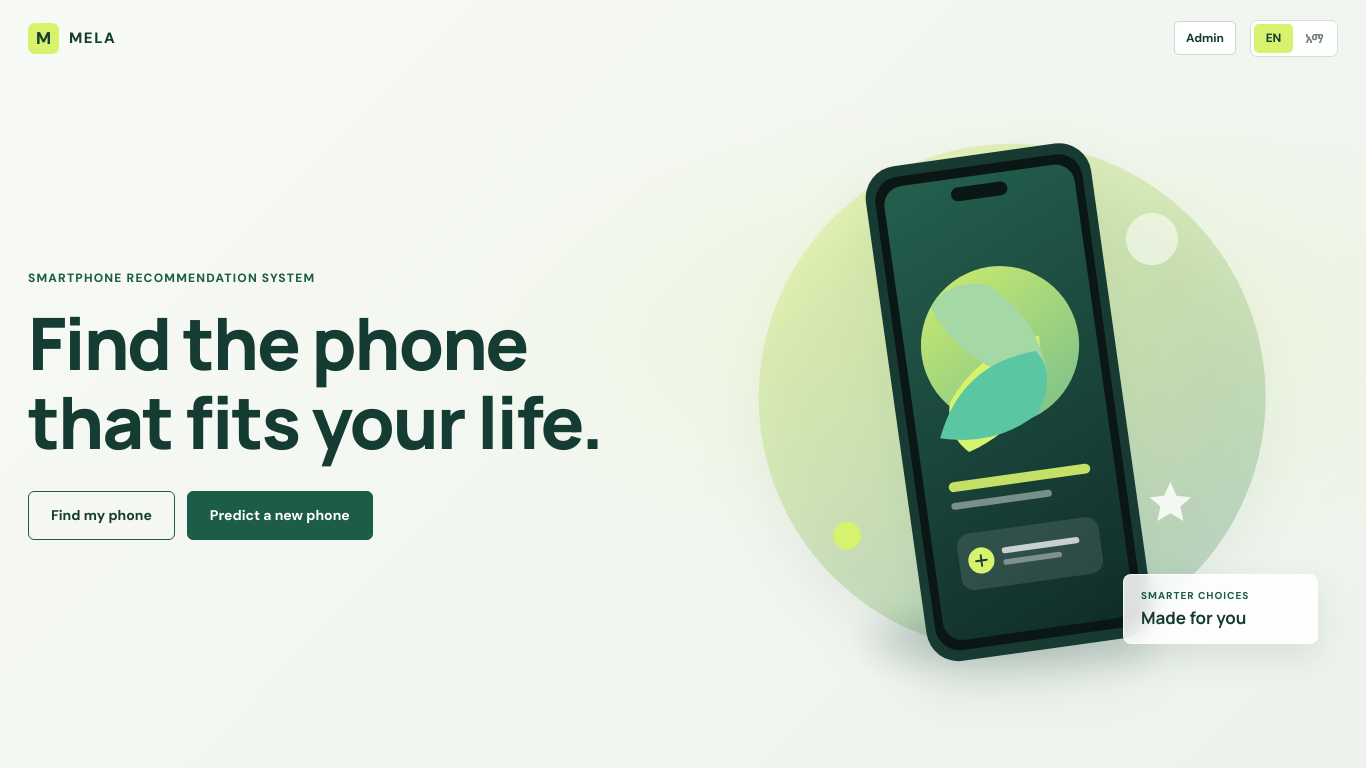
Test: first admin signs up, then signs in to manage the catalog
Click the button "Admin" at point(1205, 38), box [1174,21,1236,55]
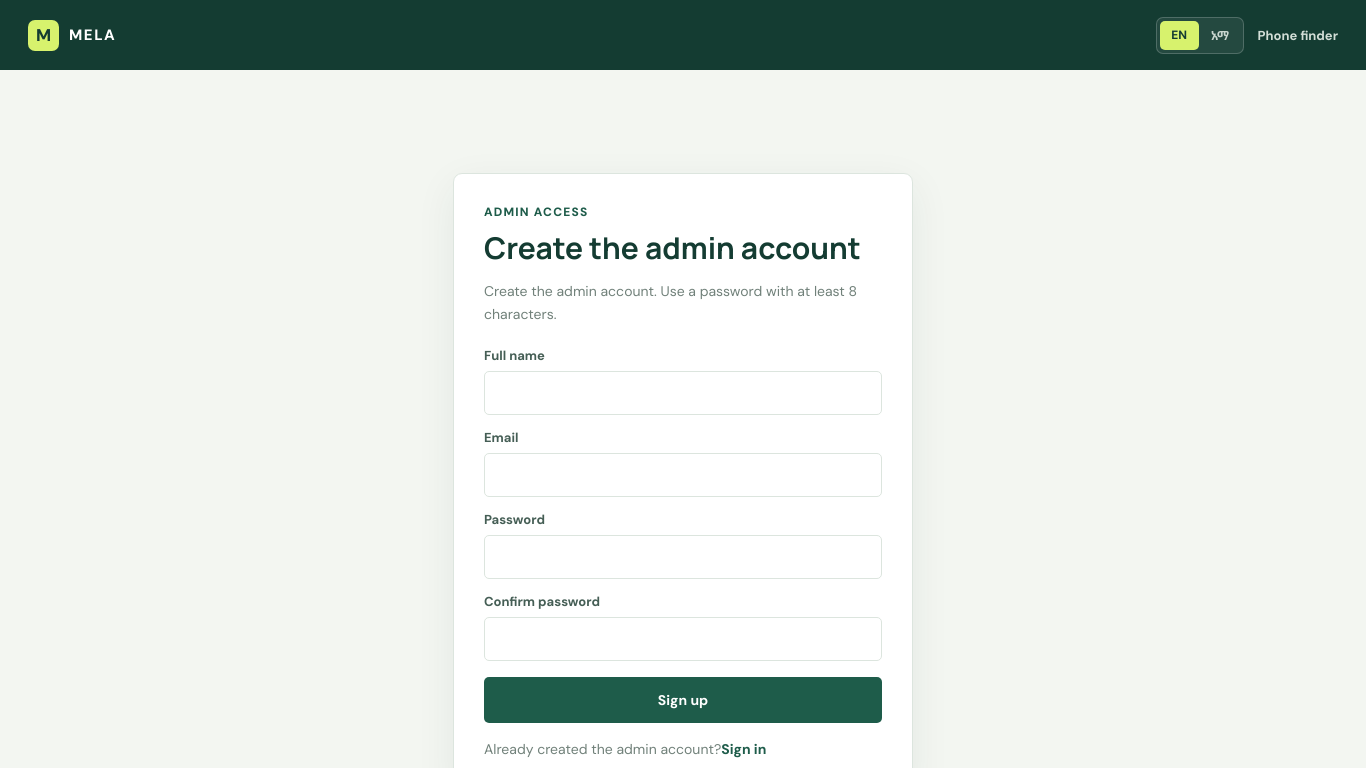
Now the heading "Create the admin account" is shown, box [484,230,882,266]
Type "Catalog Admin" into the field labelled "Full name" at point(683, 393), box [484,371,882,415]
Type "admin@example.com" into the field labelled "Email" at point(683, 475), box [484,453,882,497]
Type "strong-admin-password" into the password field labelled "Password" at point(683, 557), box [484,535,882,579]
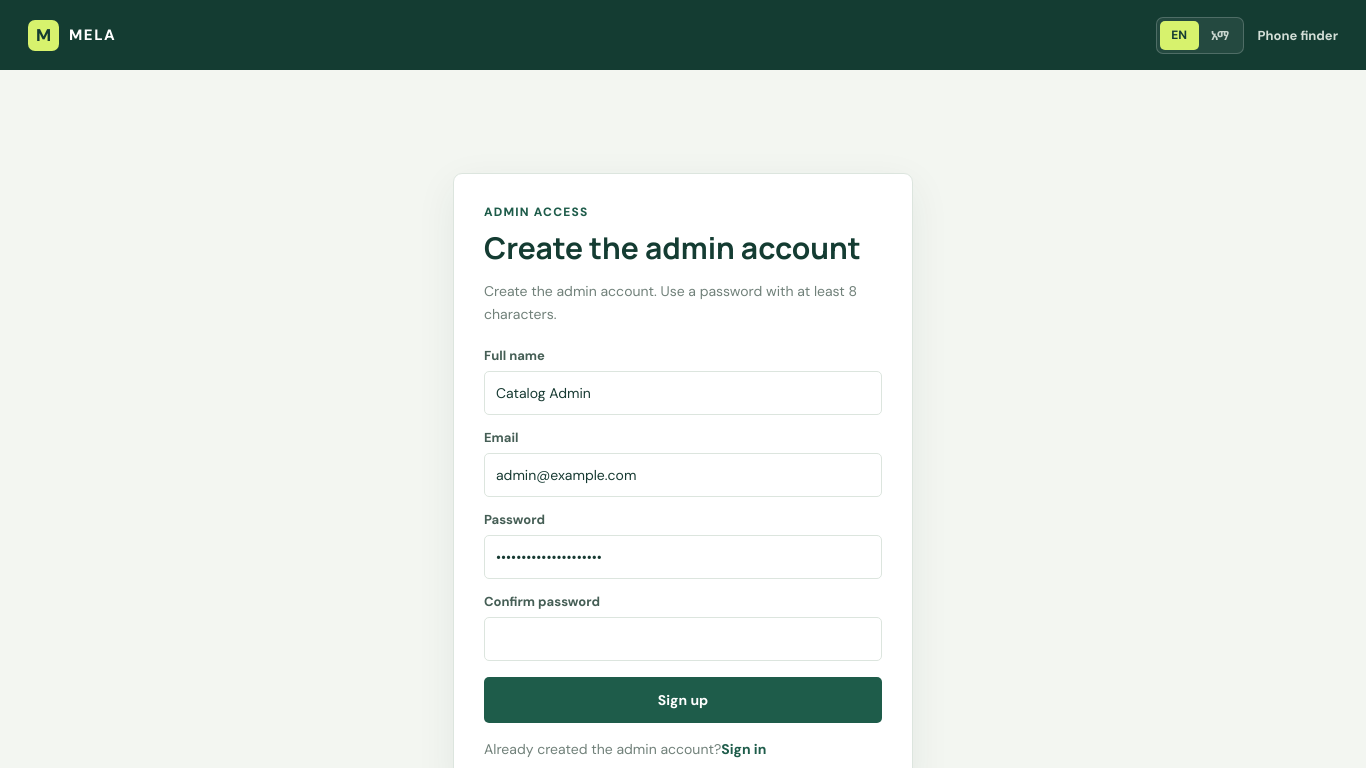
Type "strong-admin-password" into the password field labelled "Confirm password" at point(683, 639), box [484,617,882,661]
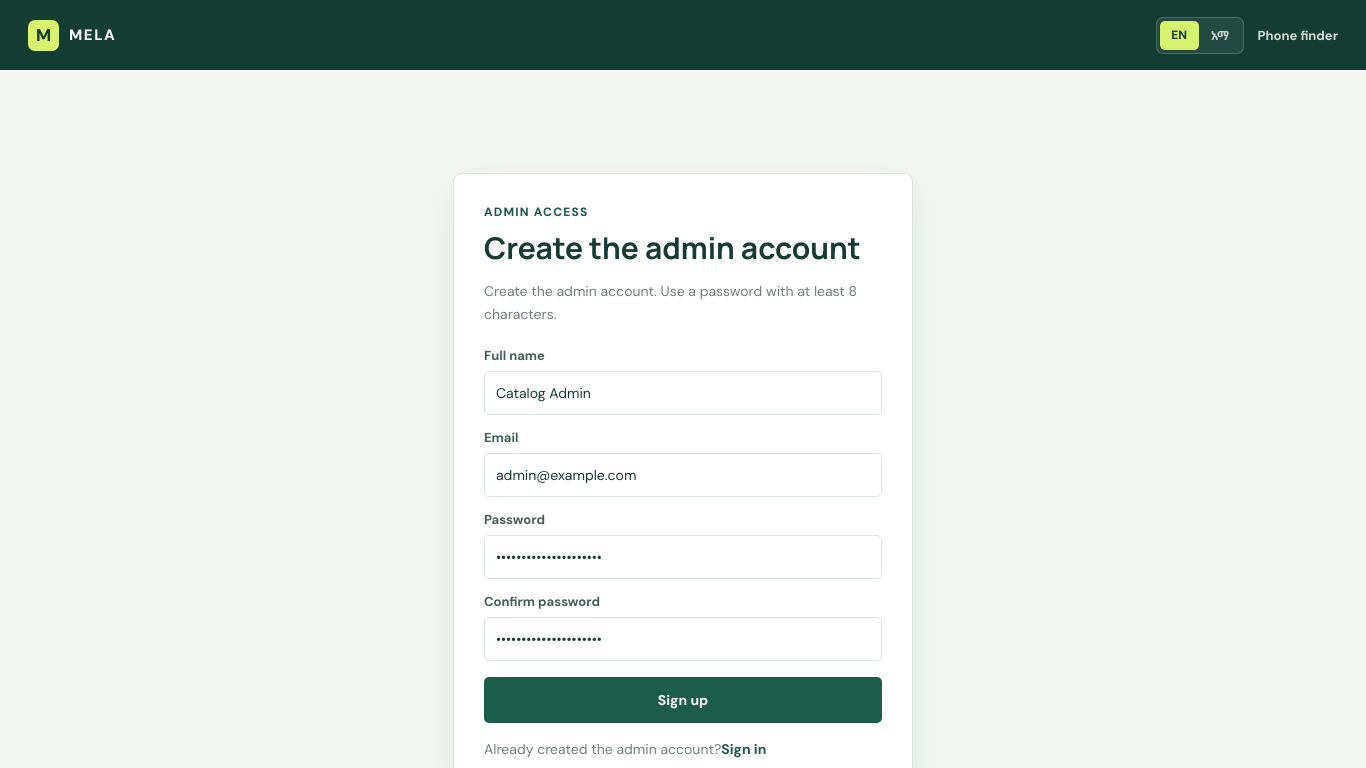
Click the button "Sign up" at point(683, 700), box [484,677,882,723]
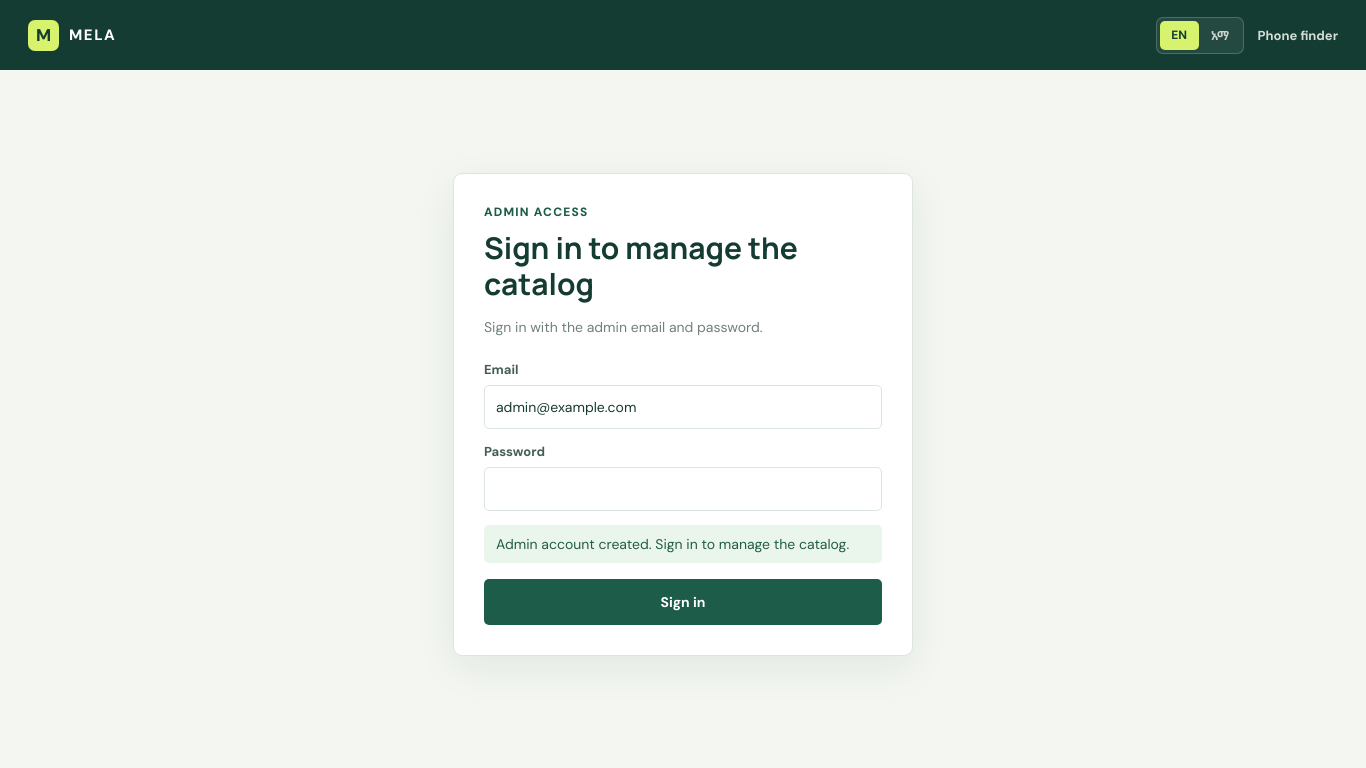
Now the heading "Sign in to manage the catalog" is shown, box [484,227,798,304]
Type "strong-admin-password" into the password field labelled "Password" at point(683, 488), box [484,466,882,510]
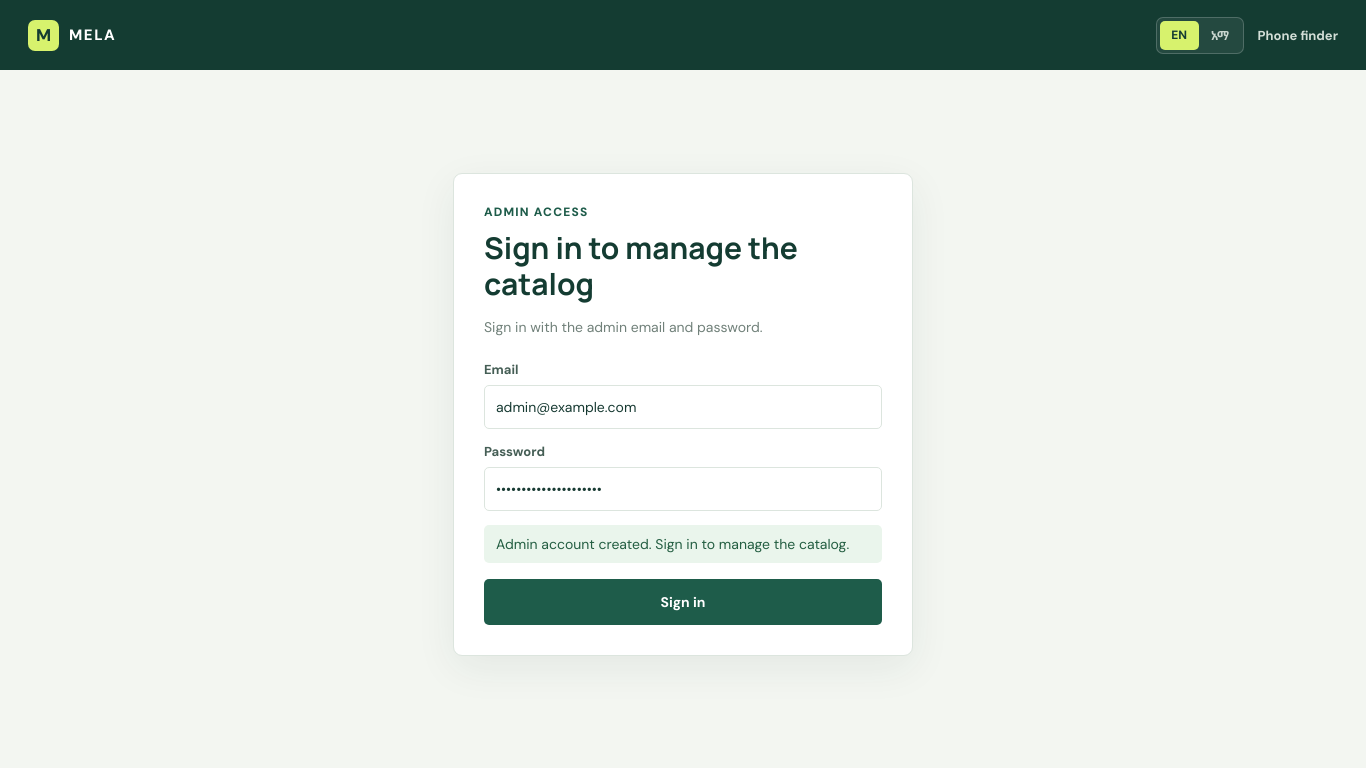
Click the button "Sign in" at point(683, 602), box [484,578,882,624]
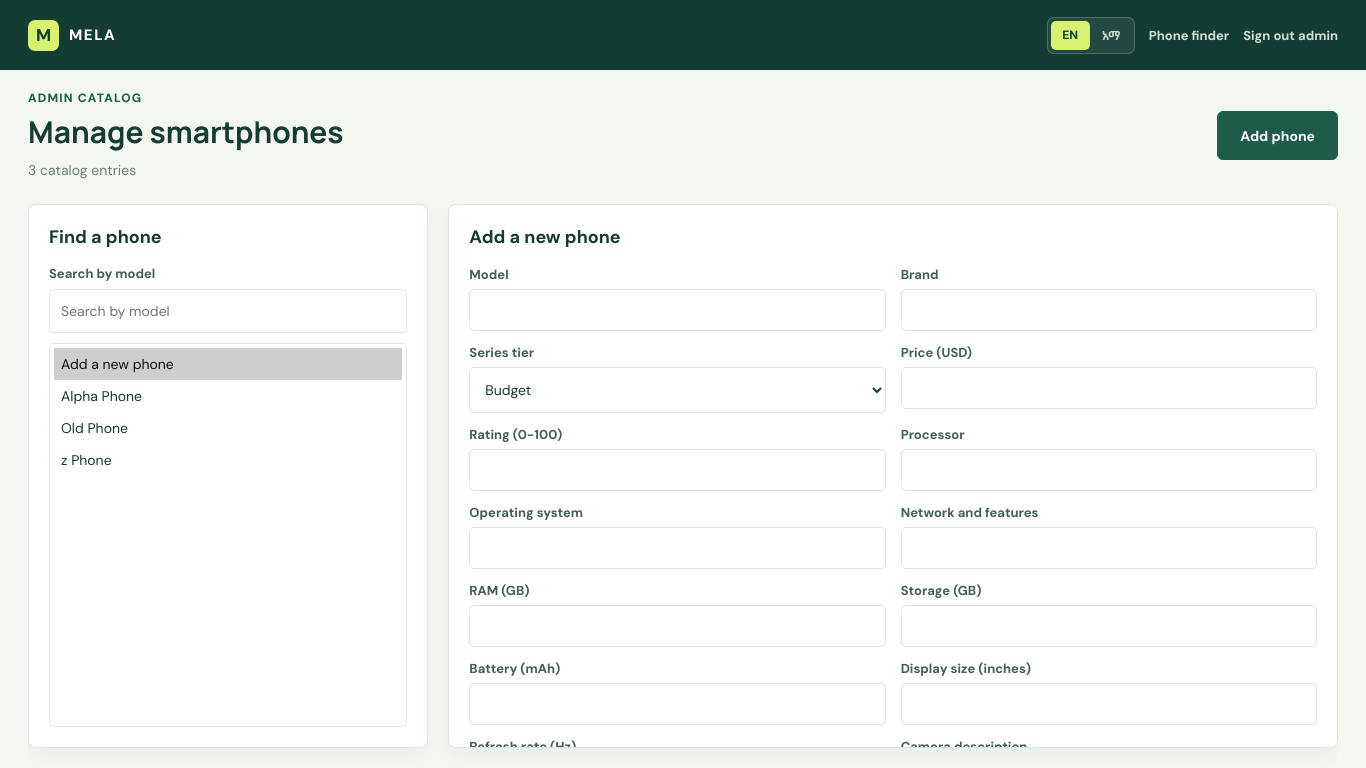
Now the heading "Manage smartphones" is shown, box [28,114,344,150]
Now the text "3 catalog entries" is shown, box [28,161,136,179]
